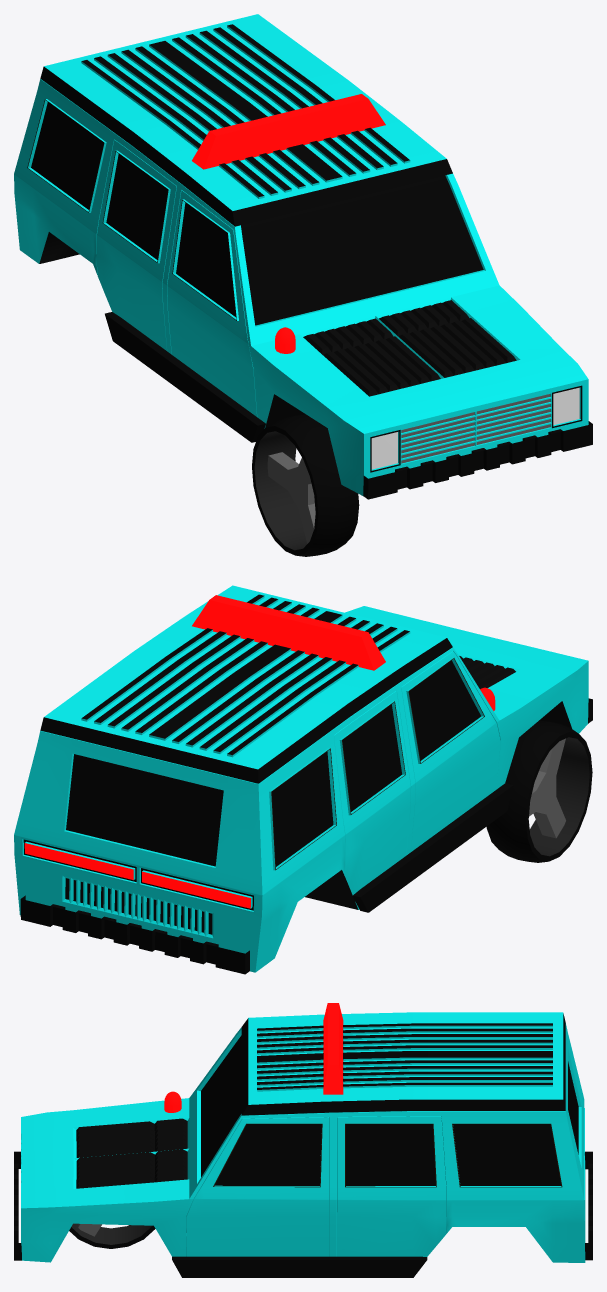
Rendered from Vehicle 4_M_V1_Raghu.fbx.
The picture shows the model from 3 angles, top to bottom: view 1: azimuth 30°, elevation 25°; view 2: azimuth 150°, elevation 25°; view 3: azimuth 270°, elevation 25°; orthographic projection. The views are drawn at different scales.
Parts seen in each view (by area): view 1: Box008, Tube005; view 2: Box008, Tube005; view 3: Box008, Tube005.
Part boxes in pixels (left/top/right/bottom): Box008: left=14, top=14, right=592, bottom=499; Tube005: left=252, top=414, right=359, bottom=556; Box008: left=14, top=585, right=592, bottom=974; Tube005: left=486, top=720, right=592, bottom=862; Box008: left=14, top=1003, right=592, bottom=1277; Tube005: left=69, top=1223, right=155, bottom=1248.
Size of the model in its own units: 821 by 918 by 1866.
